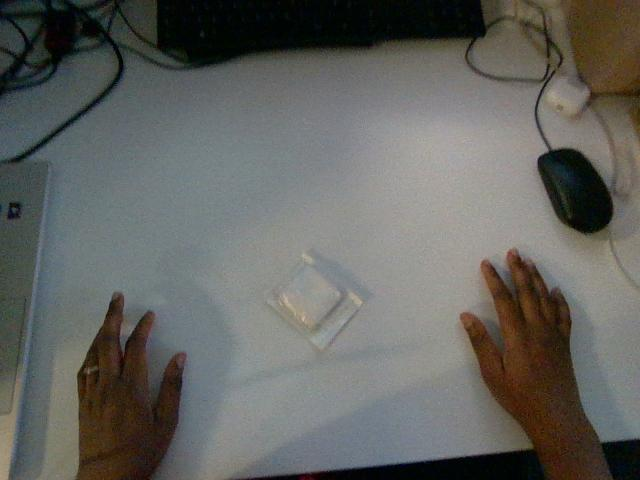gauze: (266, 252, 362, 349)
